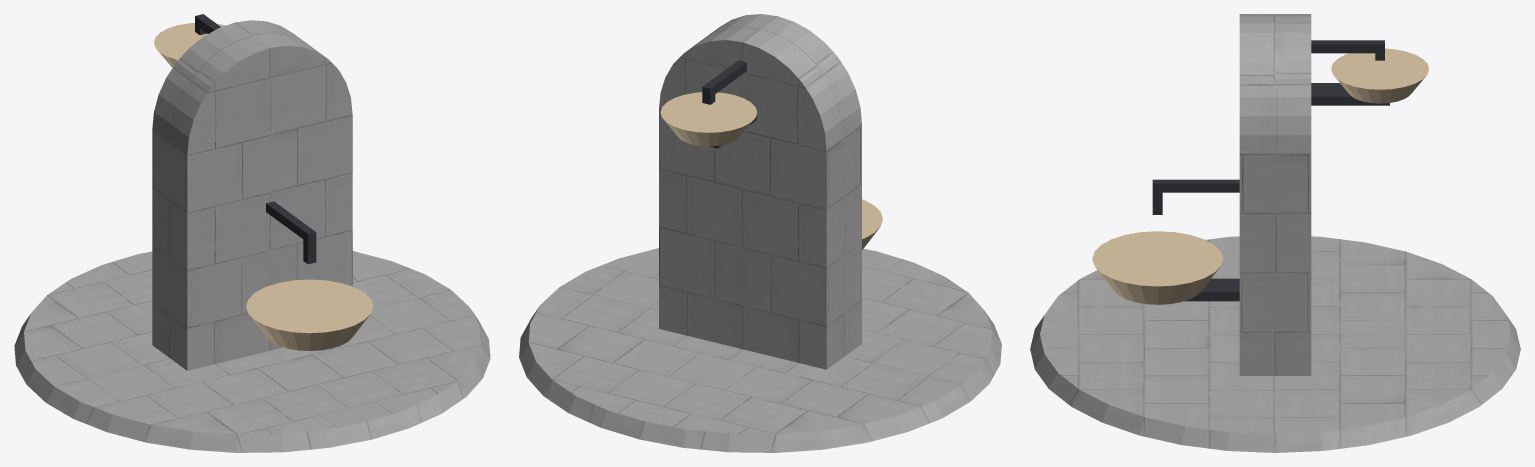
File: 05 Dog Water Station.fbx
3 renders of one model, left to right at view 1: azimuth 30°, elevation 25°; view 2: azimuth 150°, elevation 25°; view 3: azimuth 270°, elevation 25°, orthographic. The views are drawn at different scales.
Parts seen in each view (by area): view 1: SiteA_DogWaterStation_drain_pad, SiteA_DogWaterStation_arch_pillar, SiteA_DogWaterStation_dog_bowl, SiteA_DogWaterStation_brackets_and_spouts, SiteA_DogWaterStation_human_basin; view 2: SiteA_DogWaterStation_drain_pad, SiteA_DogWaterStation_arch_pillar, SiteA_DogWaterStation_human_basin, SiteA_DogWaterStation_brackets_and_spouts, SiteA_DogWaterStation_dog_bowl; view 3: SiteA_DogWaterStation_drain_pad, SiteA_DogWaterStation_arch_pillar, SiteA_DogWaterStation_dog_bowl, SiteA_DogWaterStation_brackets_and_spouts, SiteA_DogWaterStation_human_basin.
Boxes of the visible parts, x1=… form: SiteA_DogWaterStation_drain_pad: x1=14, y1=251, x2=490, y2=452; SiteA_DogWaterStation_arch_pillar: x1=152, y1=20, x2=352, y2=370; SiteA_DogWaterStation_dog_bowl: x1=246, y1=279, x2=373, y2=350; SiteA_DogWaterStation_brackets_and_spouts: x1=195, y1=14, x2=316, y2=264; SiteA_DogWaterStation_human_basin: x1=154, y1=23, x2=225, y2=67; SiteA_DogWaterStation_drain_pad: x1=519, y1=248, x2=1001, y2=452; SiteA_DogWaterStation_arch_pillar: x1=659, y1=14, x2=861, y2=369; SiteA_DogWaterStation_human_basin: x1=660, y1=92, x2=757, y2=146; SiteA_DogWaterStation_brackets_and_spouts: x1=702, y1=60, x2=756, y2=148; SiteA_DogWaterStation_dog_bowl: x1=862, y1=199, x2=882, y2=250; SiteA_DogWaterStation_drain_pad: x1=1030, y1=236, x2=1520, y2=452; SiteA_DogWaterStation_arch_pillar: x1=1239, y1=14, x2=1311, y2=375; SiteA_DogWaterStation_dog_bowl: x1=1092, y1=231, x2=1222, y2=304; SiteA_DogWaterStation_brackets_and_spouts: x1=1152, y1=40, x2=1389, y2=301; SiteA_DogWaterStation_human_basin: x1=1331, y1=48, x2=1428, y2=103.
Size of the model in its own units: 1.5 by 1.1 by 1.5.
Materials: 4 (2 with a texture image).
